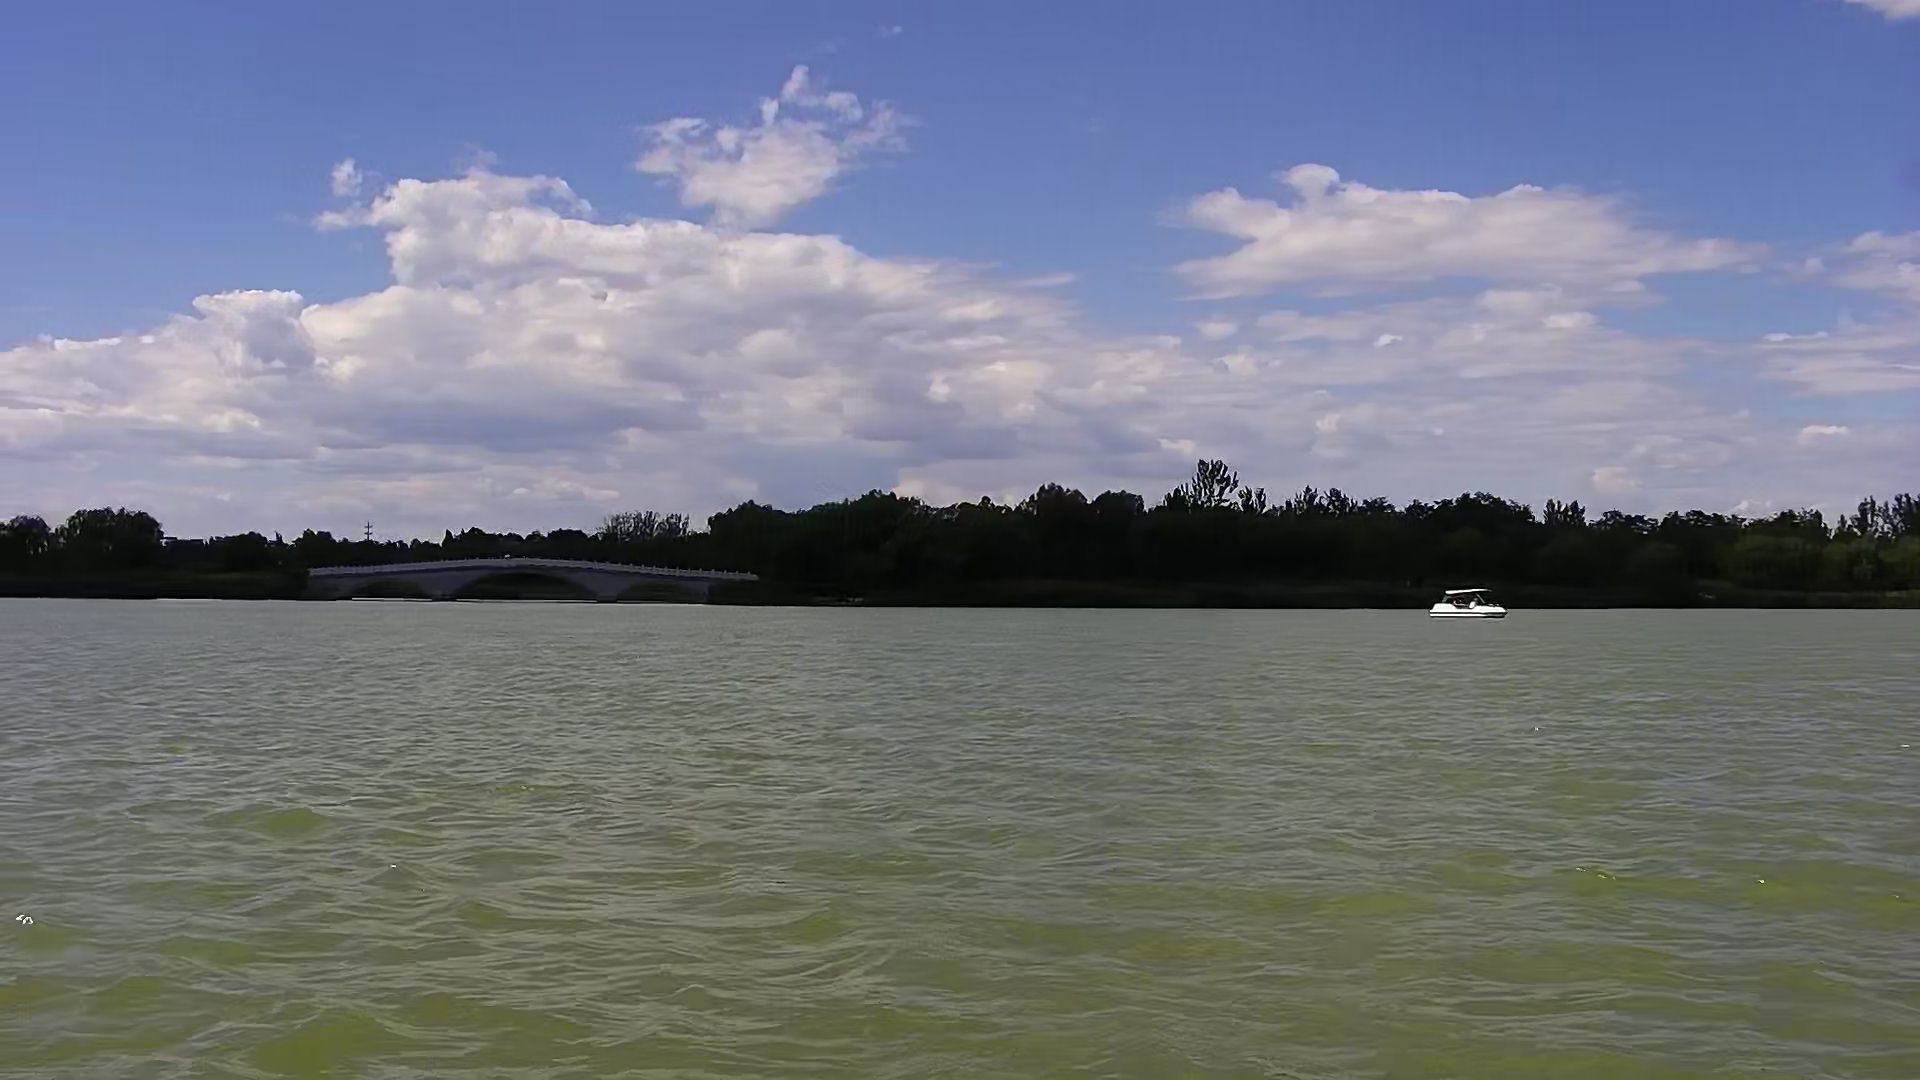boat: (1429, 579, 1514, 622)
bridge: (301, 549, 771, 611)
